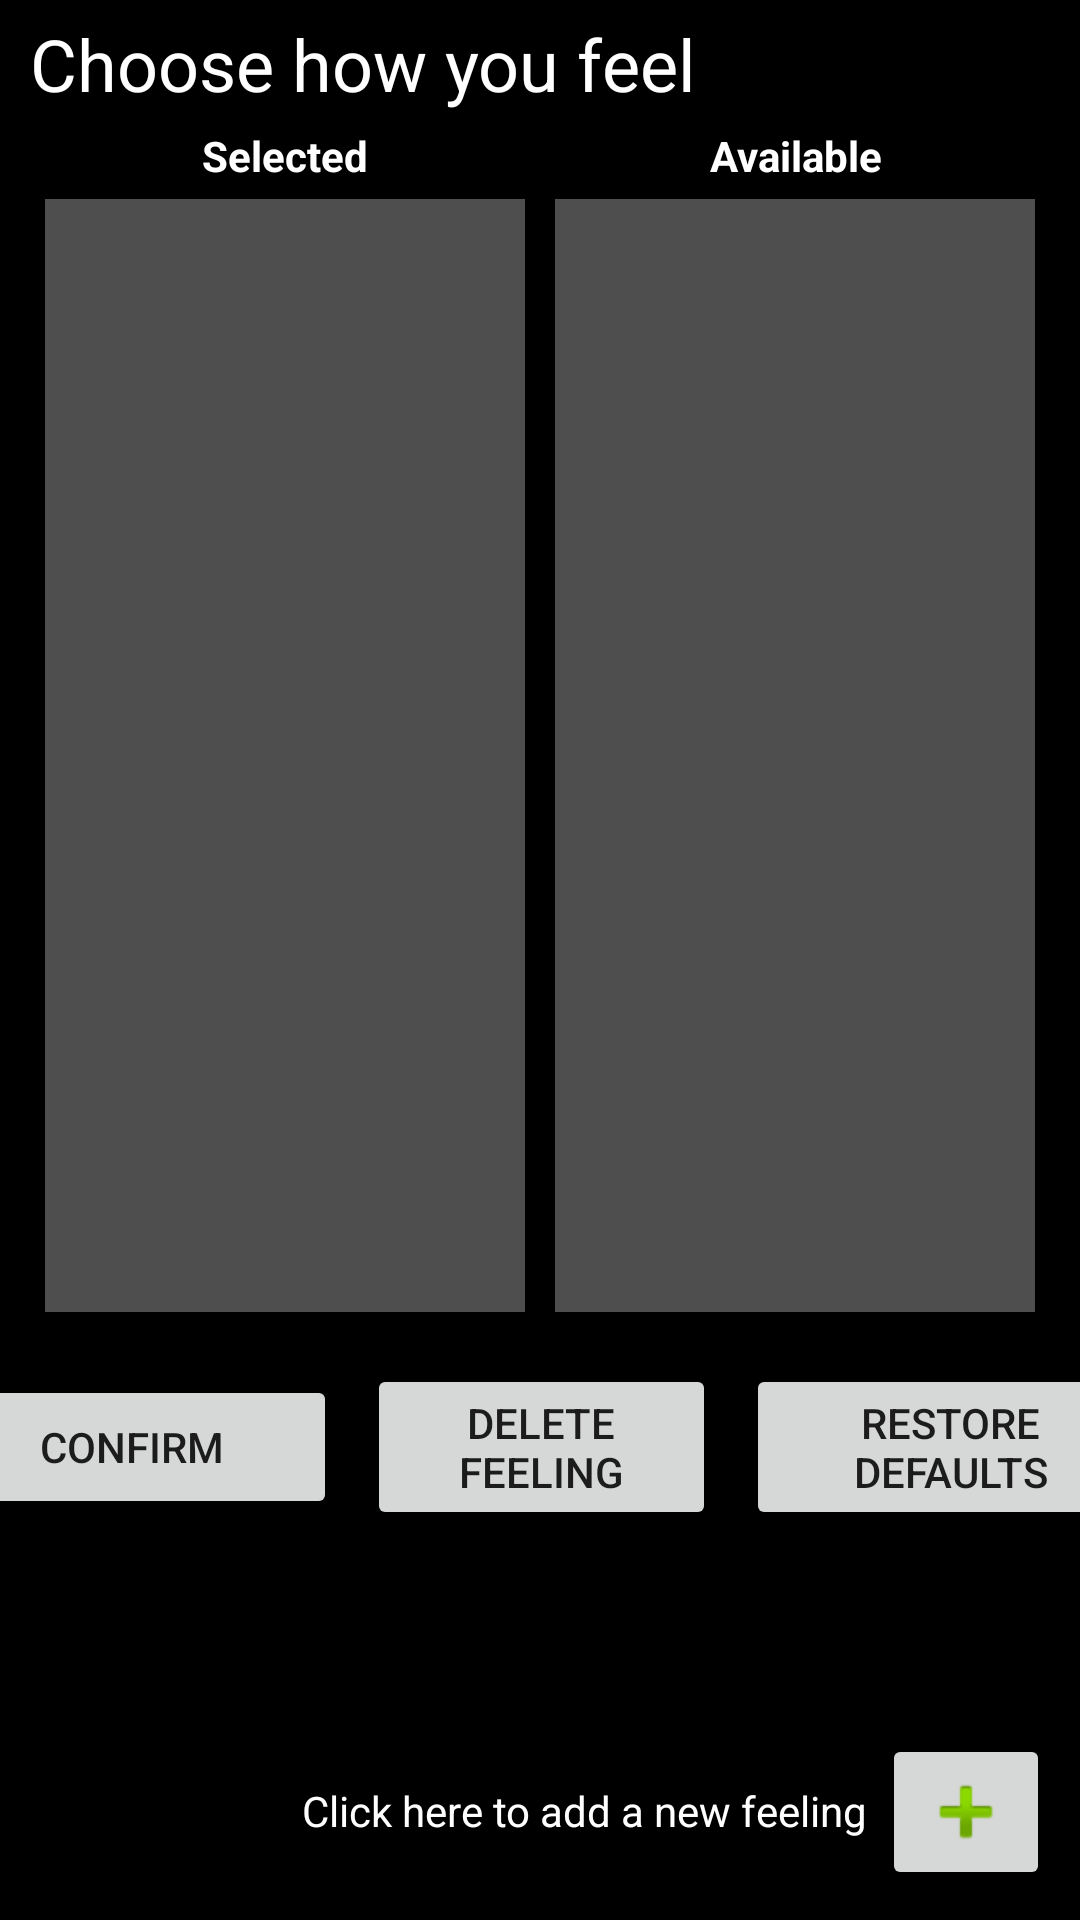

Icons on this 1080px x 1920px Android screen, each with its box as (left=x1, top=y1, right=x2, bottom=y2):
Clickable button to add new activity: (left=894, top=1752, right=1038, bottom=1872)
